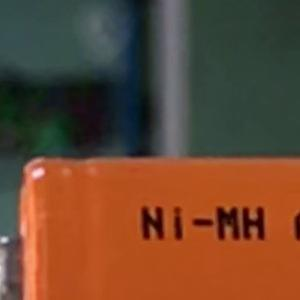NI-MH: (131, 198, 275, 249)
